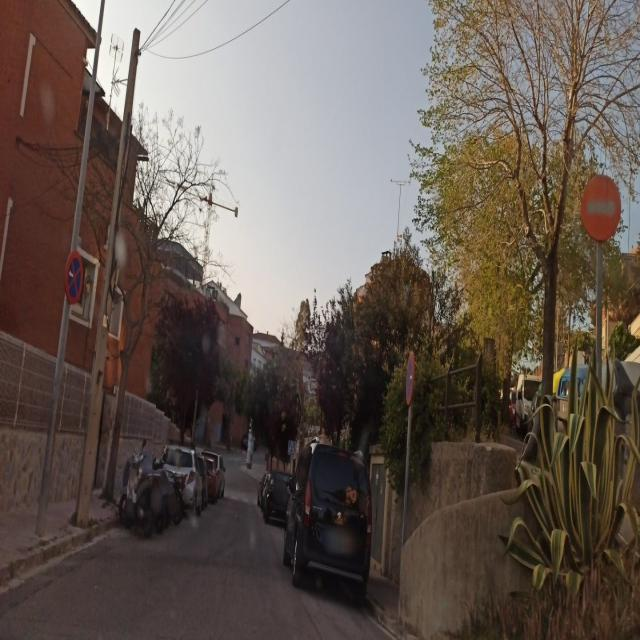forb_stopping: (402, 345, 418, 406)
forb_waiting: (64, 250, 84, 305)
